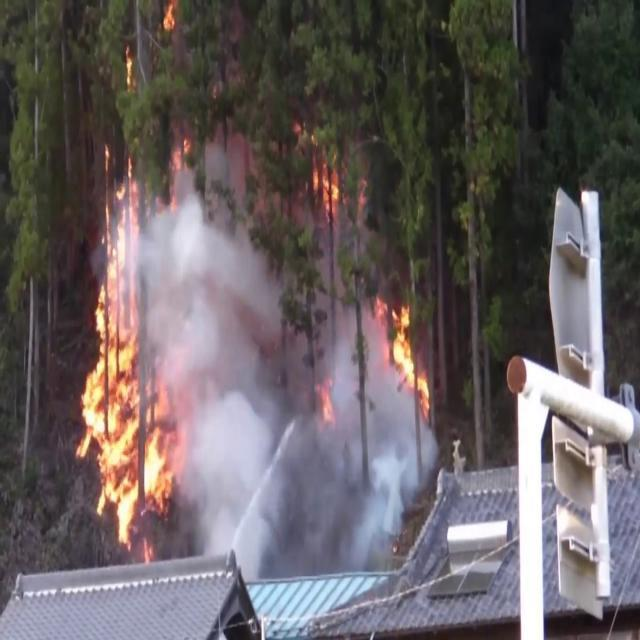Fire: (72, 170, 178, 545), (386, 292, 432, 420), (314, 159, 344, 222)
Smoke: (145, 181, 424, 569)
